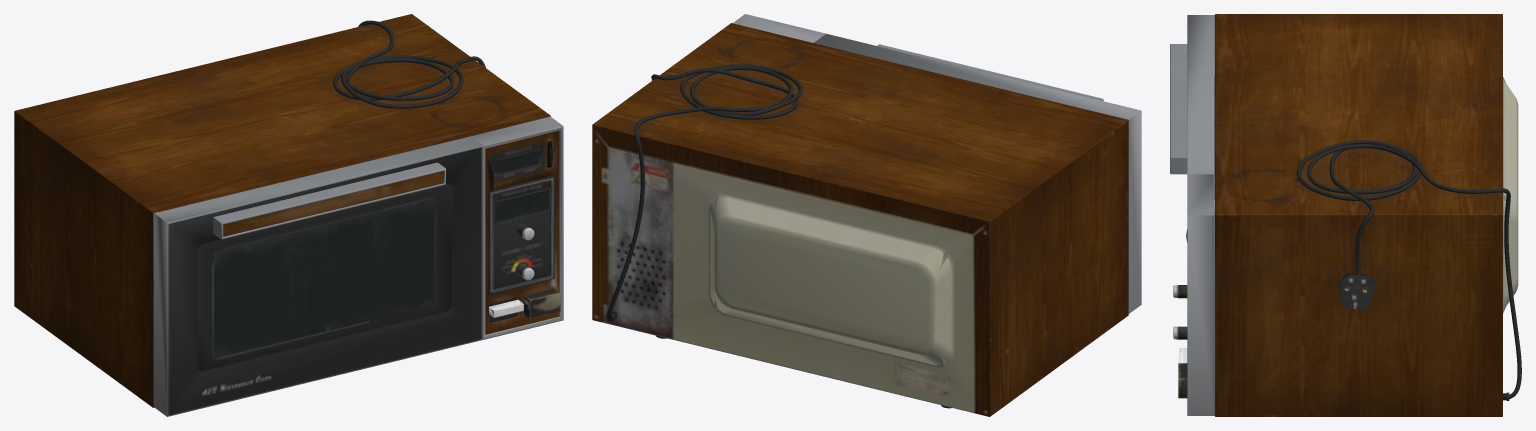
Rendered from vintage_microwave.glb.
The picture shows the model from 3 angles, left to right: view 1: azimuth 30°, elevation 25°; view 2: azimuth 150°, elevation 25°; view 3: azimuth 270°, elevation 25°; orthographic projection. The views are drawn at different scales.
Visible parts, largest first — view 1: vintage_microwave, vintage_microwave_lo; view 2: vintage_microwave; view 3: vintage_microwave, vintage_microwave_lo.
Part boxes in pixels (left/top/right/bottom): vintage_microwave: left=14, top=14, right=563, bottom=416; vintage_microwave_lo: left=197, top=135, right=559, bottom=370; vintage_microwave: left=592, top=14, right=1141, bottom=416; vintage_microwave: left=1170, top=14, right=1521, bottom=416; vintage_microwave_lo: left=1178, top=35, right=1514, bottom=378.
Bounding box in the file's own units: 1.07 × 0.5257 × 0.7455.
Materials: 2 (2 with a texture image).
